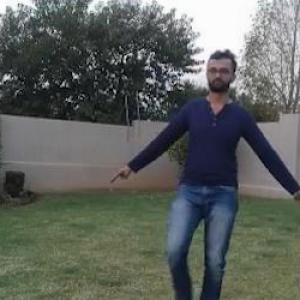land: (91, 48, 299, 299)
